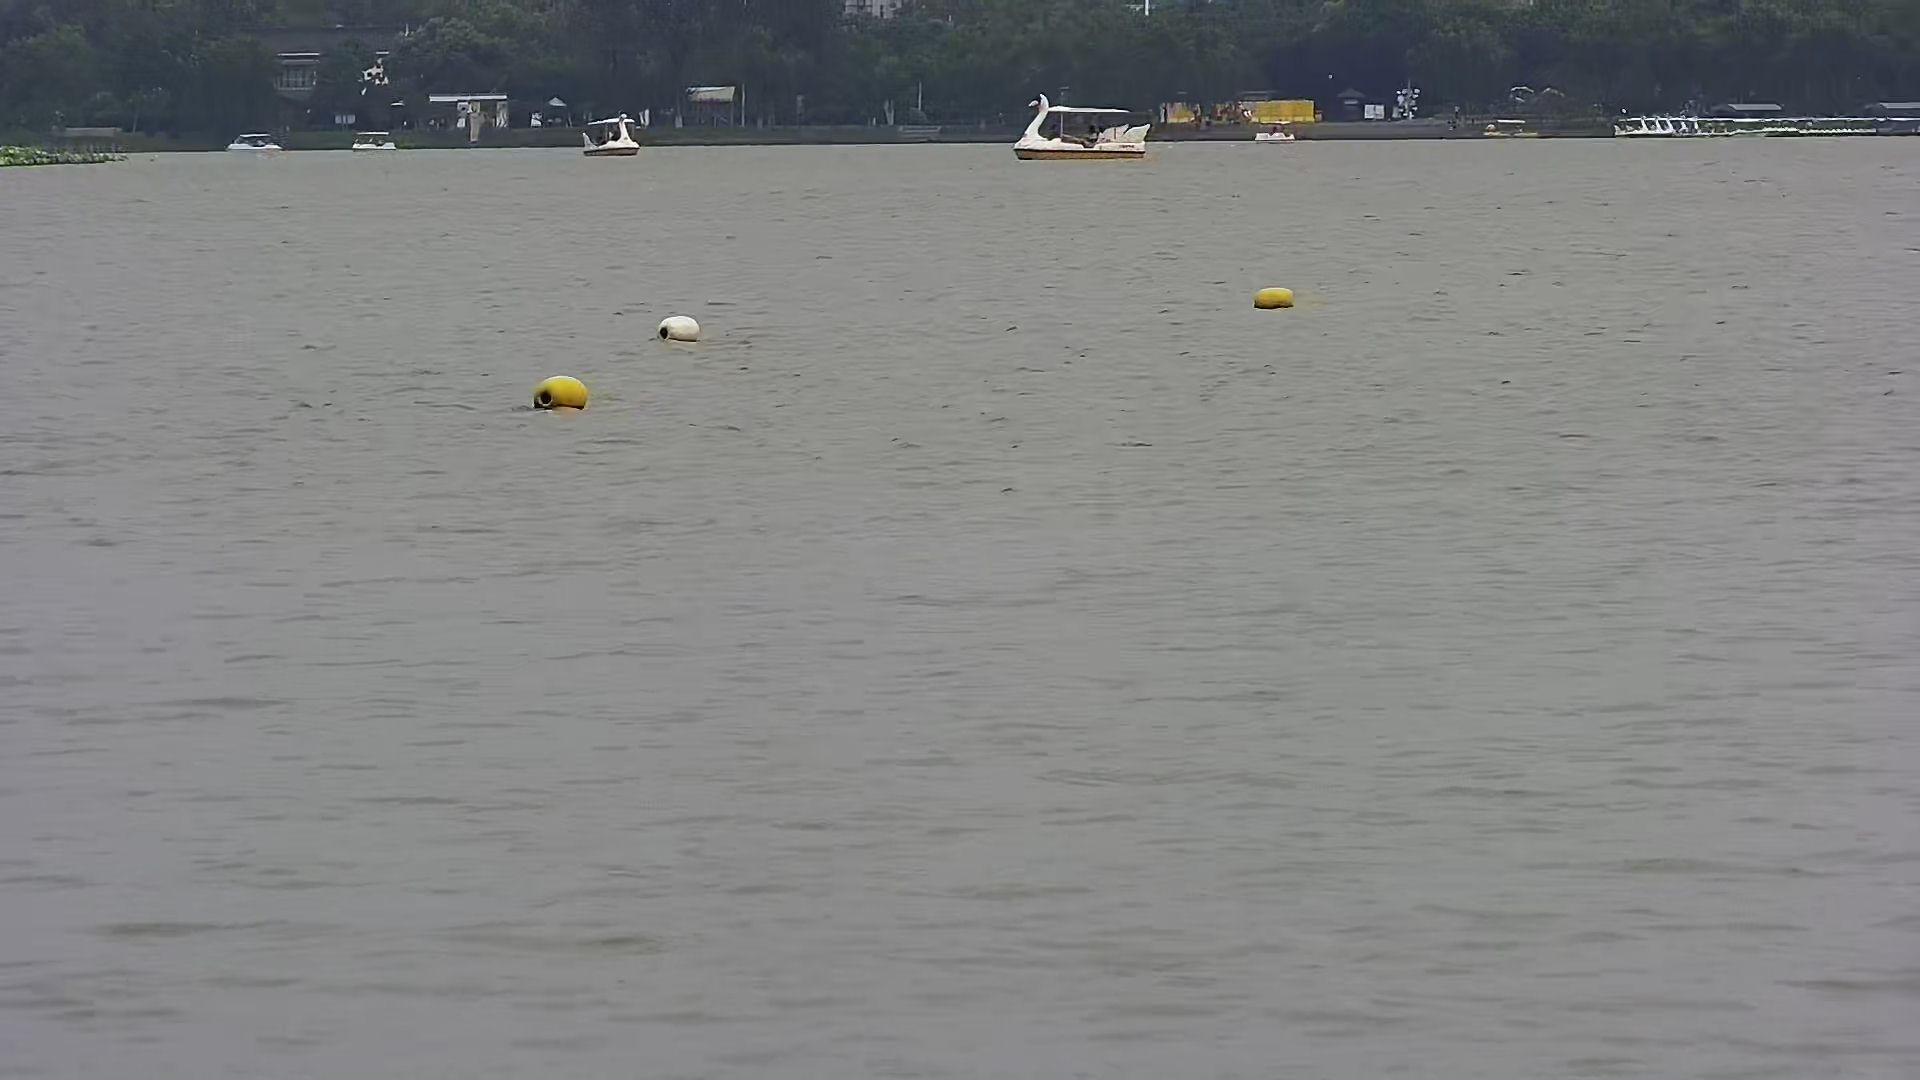boat: (1010, 91, 1150, 161), (578, 109, 636, 157)
rubbish: (530, 371, 593, 413), (651, 310, 700, 344), (1251, 284, 1302, 315)
